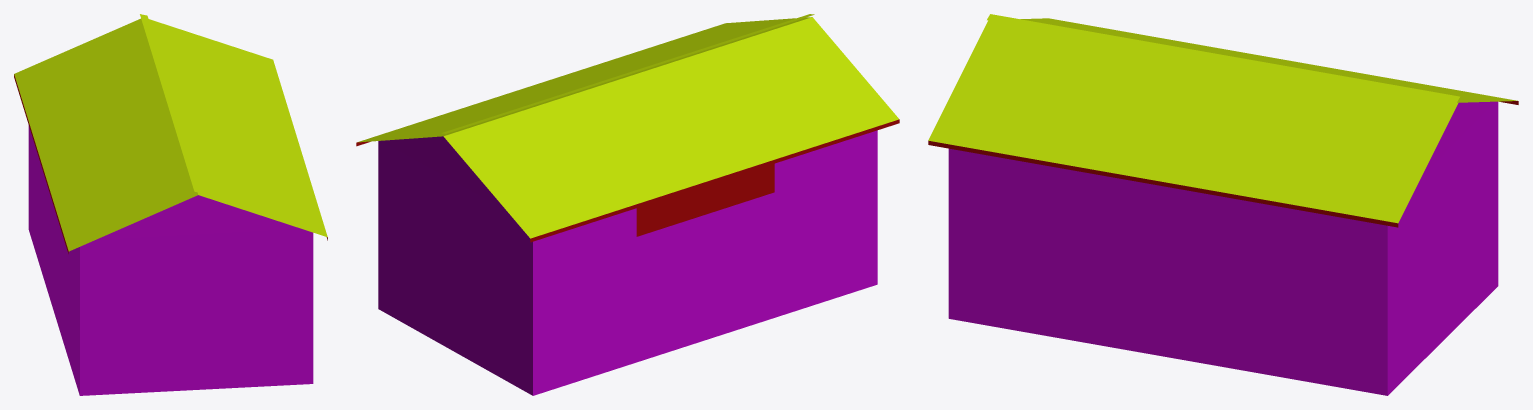
Rendered from sdt_40.glb.
3 renders of one model, left to right at view 1: azimuth 30°, elevation 25°; view 2: azimuth 150°, elevation 25°; view 3: azimuth 270°, elevation 25°, orthographic. The views are drawn at different scales.
Visible parts, largest first — view 1: sdt_40; view 2: sdt_40; view 3: sdt_40.
Boxes of the visible parts, left/top/right/bottom form: sdt_40: left=14, top=14, right=327, bottom=395; sdt_40: left=356, top=14, right=899, bottom=395; sdt_40: left=928, top=14, right=1518, bottom=395.
Size of the model in its own units: 12.34 by 6.89 by 15.02.
